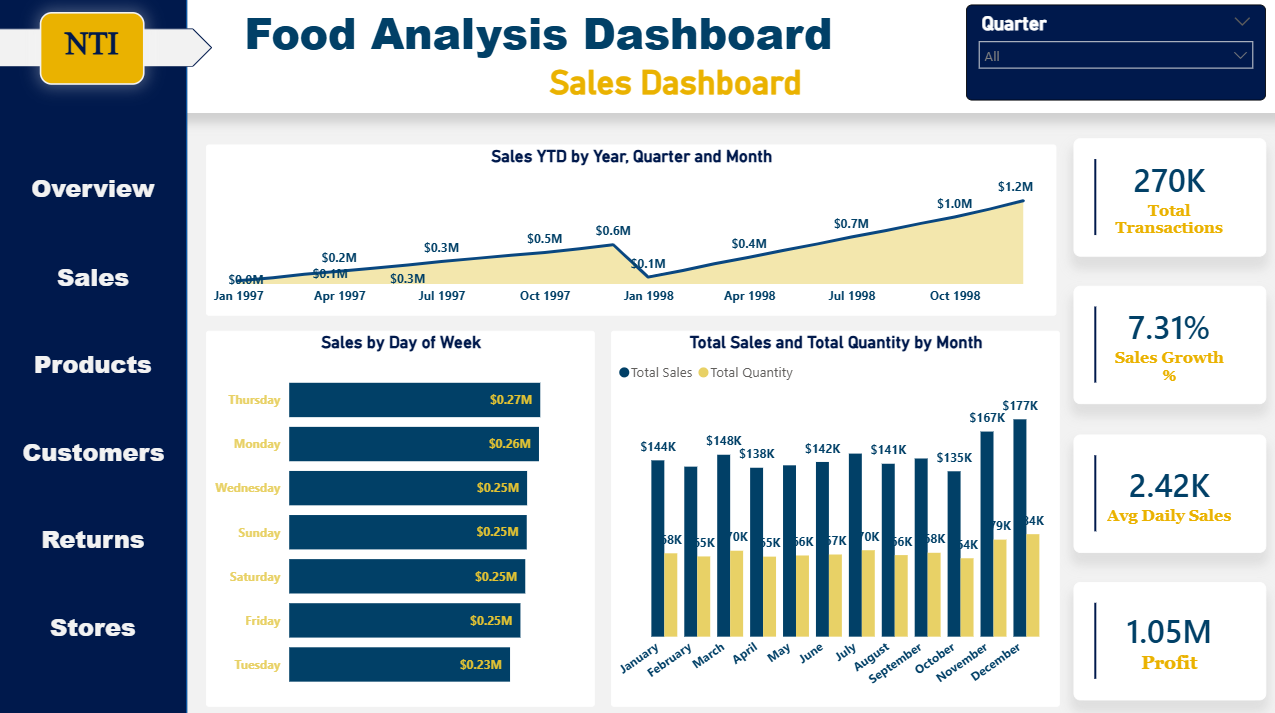

The page's visual inventory and layout, read from the dashboard file:
{"tool":"powerbi","page":{"name":"Sales ","canvas":[1280,720],"ordinal":2},"visuals":[{"type":"shape","box":[0,0,191.2,720],"z":0,"group":"g1"},{"type":"textbox","box":[1.2,0,1278.8,116.2],"z":0},{"type":"shape","box":[0,31.2,216.2,38.8],"z":1000,"group":"g1"},{"type":"cardVisual","fields":{"Data":["Sales.Total Transactions"]},"box":[1077.1,141.2,192.5,118.8],"z":1000},{"type":"textbox","box":[43.8,15,105,72.5],"z":2000,"group":"g1"},{"type":"cardVisual","fields":{"Data":["Sales.Sales Growth %"]},"box":[1077.1,289.2,192.5,118.8],"z":2000},{"type":"actionButton","title":"Overview","box":[30.2,149.3,133.8,83.8],"z":3000,"group":"g1"},{"type":"cardVisual","fields":{"Data":["Sales.Avg Daily Sales"]},"box":[1077.1,437.1,192.5,118.8],"z":3000},{"type":"actionButton","title":"Overview","box":[30.2,237,133.8,83.8],"z":4000,"group":"g1"},{"type":"cardVisual","fields":{"Data":["Sales.Profit"]},"box":[1077.1,585,192.5,118.8],"z":4000},{"type":"areaChart","fields":{"Y":["Sales.Sales YTD"],"Category":["Calendar.date.Variation.Date Hierarchy.Year","Calendar.date.Variation.Date Hierarchy.Quarter","Calendar.date.Variation.Date Hierarchy.Month","Calendar.date.Variation.Date Hierarchy.Day"]},"box":[210,147.5,850,171.2],"z":5000},{"type":"actionButton","title":"Overview","box":[30.2,324.8,133.8,83.8],"z":5000,"group":"g1"},{"type":"clusteredColumnChart","fields":{"Y":["Sales.Total Sales","Sales.Total Quantity"],"Category":["Calendar.date.Variation.Date Hierarchy.Month"]},"box":[615,333.8,448.8,376.2],"z":6000},{"type":"actionButton","title":"Overview","box":[19.6,412.5,155,83.8],"z":6000,"group":"g1"},{"type":"clusteredBarChart","title":"Sales by Day of Week","fields":{"Y":["Sales.Total Sales"],"Category":["Calendar.Day name"]},"box":[210,333.8,388.8,376.2],"z":7000},{"type":"actionButton","title":"Overview","box":[30.2,500.3,133.8,83.8],"z":7000,"group":"g1"},{"type":"group","id":"g1","title":"Group 1","box":[0,0,216.2,720],"z":8000},{"type":"actionButton","title":"Overview","box":[30.2,588,133.8,83.8],"z":8000,"group":"g1"},{"type":"slicer","fields":{"Values":["Calendar.date.Variation.Date Hierarchy.Quarter"]},"box":[970,7.5,300,96.2],"z":9000}]}

Visuals, with their boxes in screenshot pixels (x1, y1, x2, y2), scaled from the page's 1280x720 canvas onto the 1275x713 screenshot:
shape: l=0, t=0, r=190, b=712
textbox: l=1, t=0, r=1274, b=115
shape: l=0, t=31, r=215, b=69
cardVisual - Sales.Total Transactions: l=1073, t=140, r=1265, b=257
textbox: l=44, t=15, r=148, b=87
cardVisual - Sales.Sales Growth %: l=1073, t=286, r=1265, b=404
"Overview" actionButton: l=30, t=148, r=163, b=231
cardVisual - Sales.Avg Daily Sales: l=1073, t=433, r=1265, b=550
"Overview" actionButton: l=30, t=235, r=163, b=318
cardVisual - Sales.Profit: l=1073, t=579, r=1265, b=697
areaChart - Sales.Sales YTD x Calendar.date.Variation.Date Hierarchy.Year: l=209, t=146, r=1056, b=316
"Overview" actionButton: l=30, t=322, r=163, b=405
clusteredColumnChart - Sales.Total Sales x Sales.Total Quantity: l=613, t=331, r=1060, b=703
"Overview" actionButton: l=20, t=408, r=174, b=491
"Sales by Day of Week" clusteredBarChart: l=209, t=331, r=596, b=703
"Overview" actionButton: l=30, t=495, r=163, b=578
"Group 1" group: l=0, t=0, r=215, b=712
"Overview" actionButton: l=30, t=582, r=163, b=665
slicer - Calendar.date.Variation.Date Hierarchy.Quarter: l=966, t=7, r=1265, b=103
